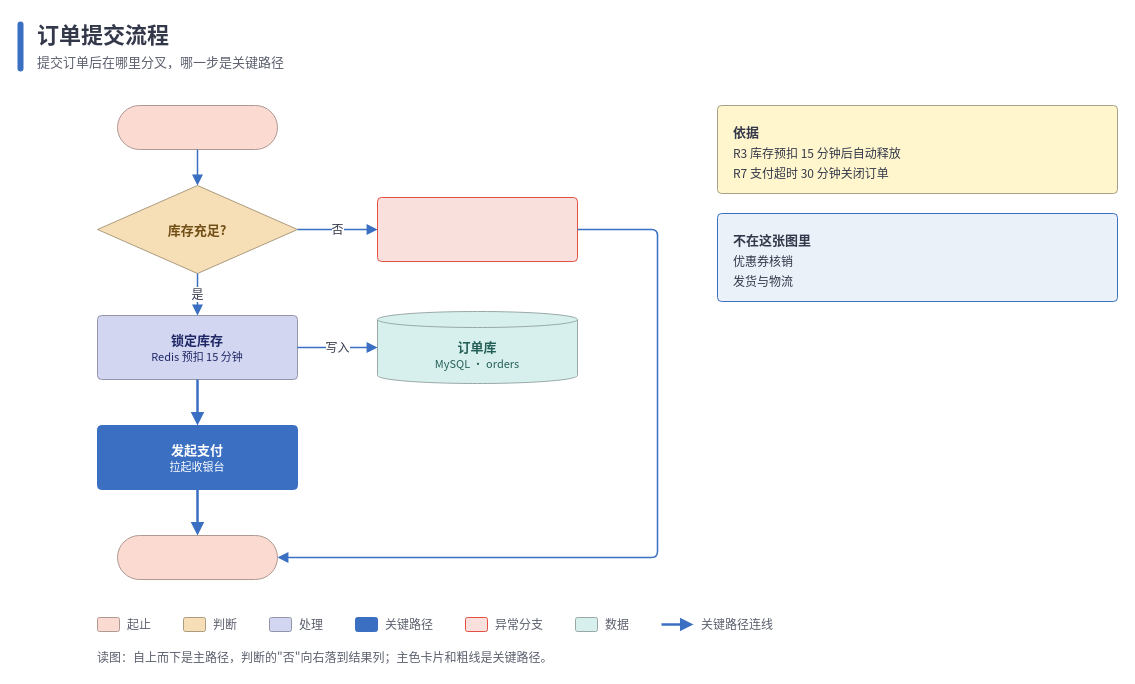
Some shapes in this 1135 by 684 pixel diagram are drawn without their labels. The shapes that lost their labels are listed below. From the top down, each one's centre as x and y in pixels, then its label:
At point (197, 127): "提交订单".
At point (477, 229): "提示缺货 库存不足时".
At point (197, 557): "结束".
